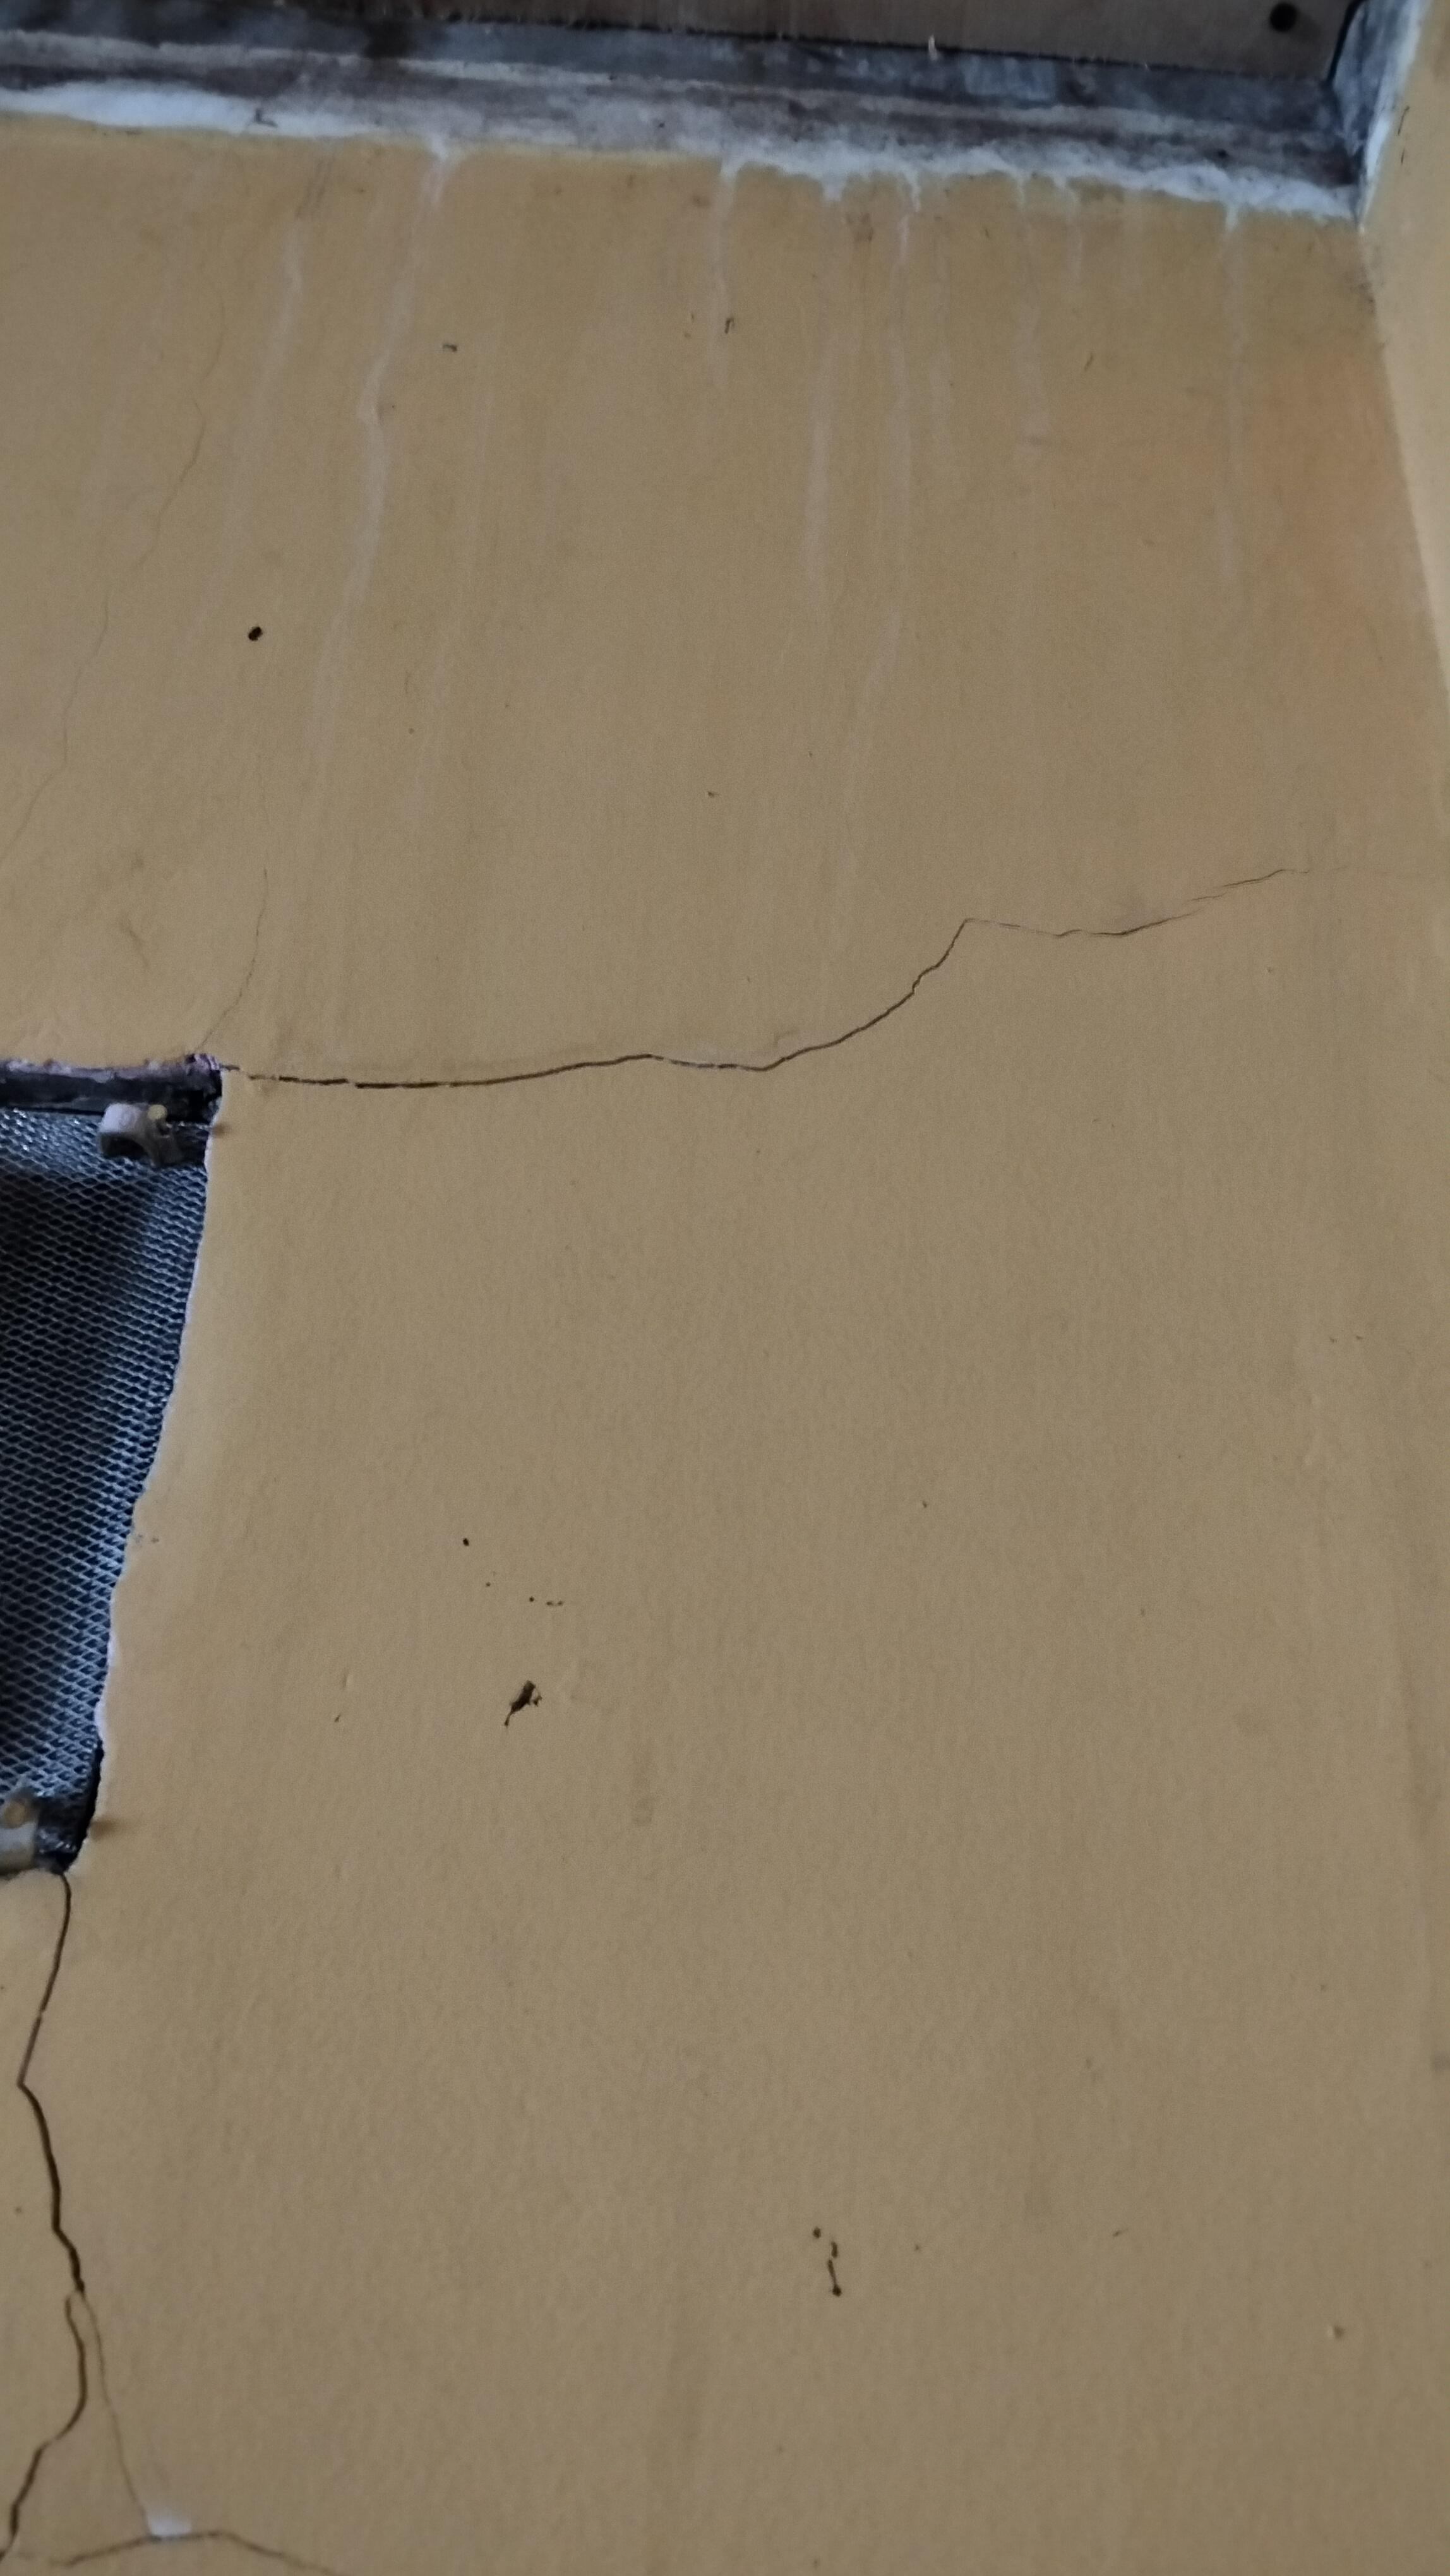Crack: (212, 1003, 1014, 1123), (891, 826, 1353, 1017), (0, 1863, 113, 2576), (81, 2387, 386, 2576)
